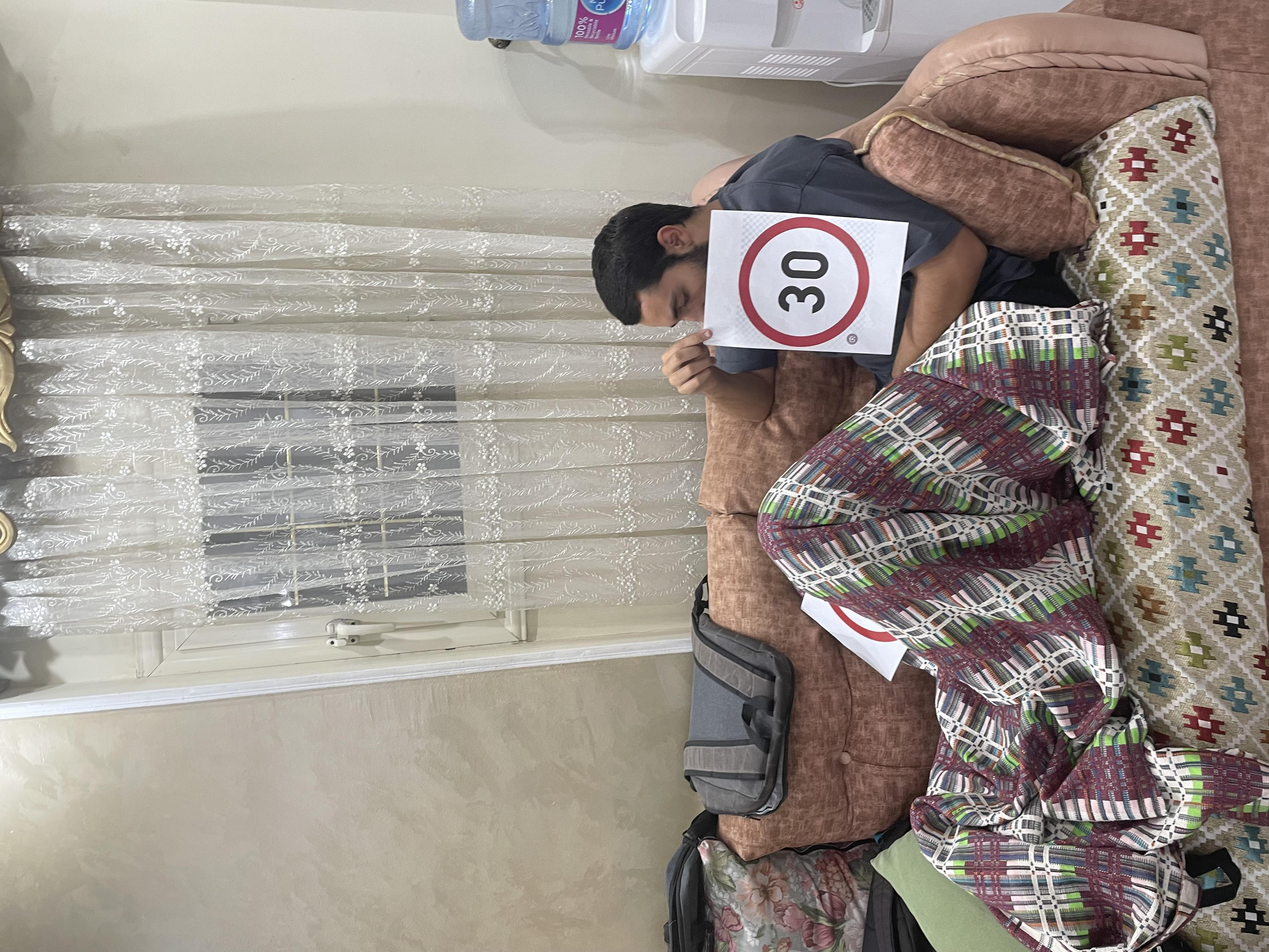30-speed: (801, 546, 995, 655)
